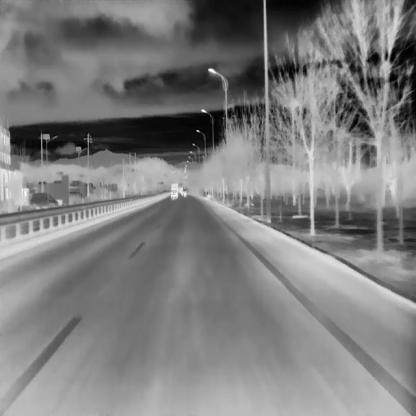car: (28, 195, 53, 207), (170, 188, 178, 199), (180, 189, 186, 195)
truck: (171, 182, 178, 193)
